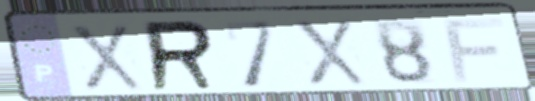7: (223, 19, 277, 90)
8: (371, 16, 437, 86)
F: (440, 15, 509, 85)
R: (141, 18, 222, 95)
X: (289, 18, 371, 88), (65, 23, 147, 93)
